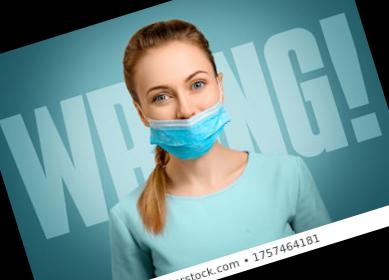mask_weared_incorrect: (135, 57, 235, 163)
